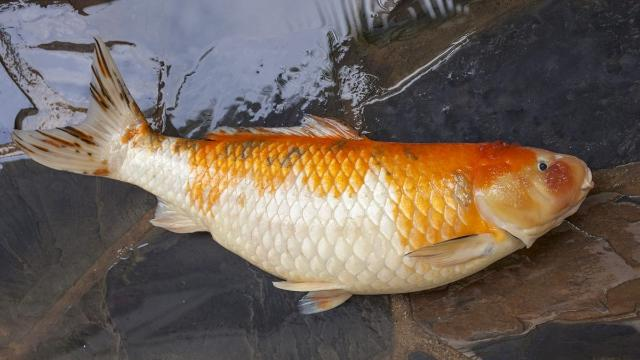Mulut: (556, 136, 610, 210)
Sirip Anal: (148, 194, 208, 238)
Sirip Dada: (405, 228, 500, 268)
Sirip Ekor: (12, 41, 152, 178)
Sirip Perut: (264, 266, 366, 323)
Sirip Punggung: (192, 108, 380, 164)
